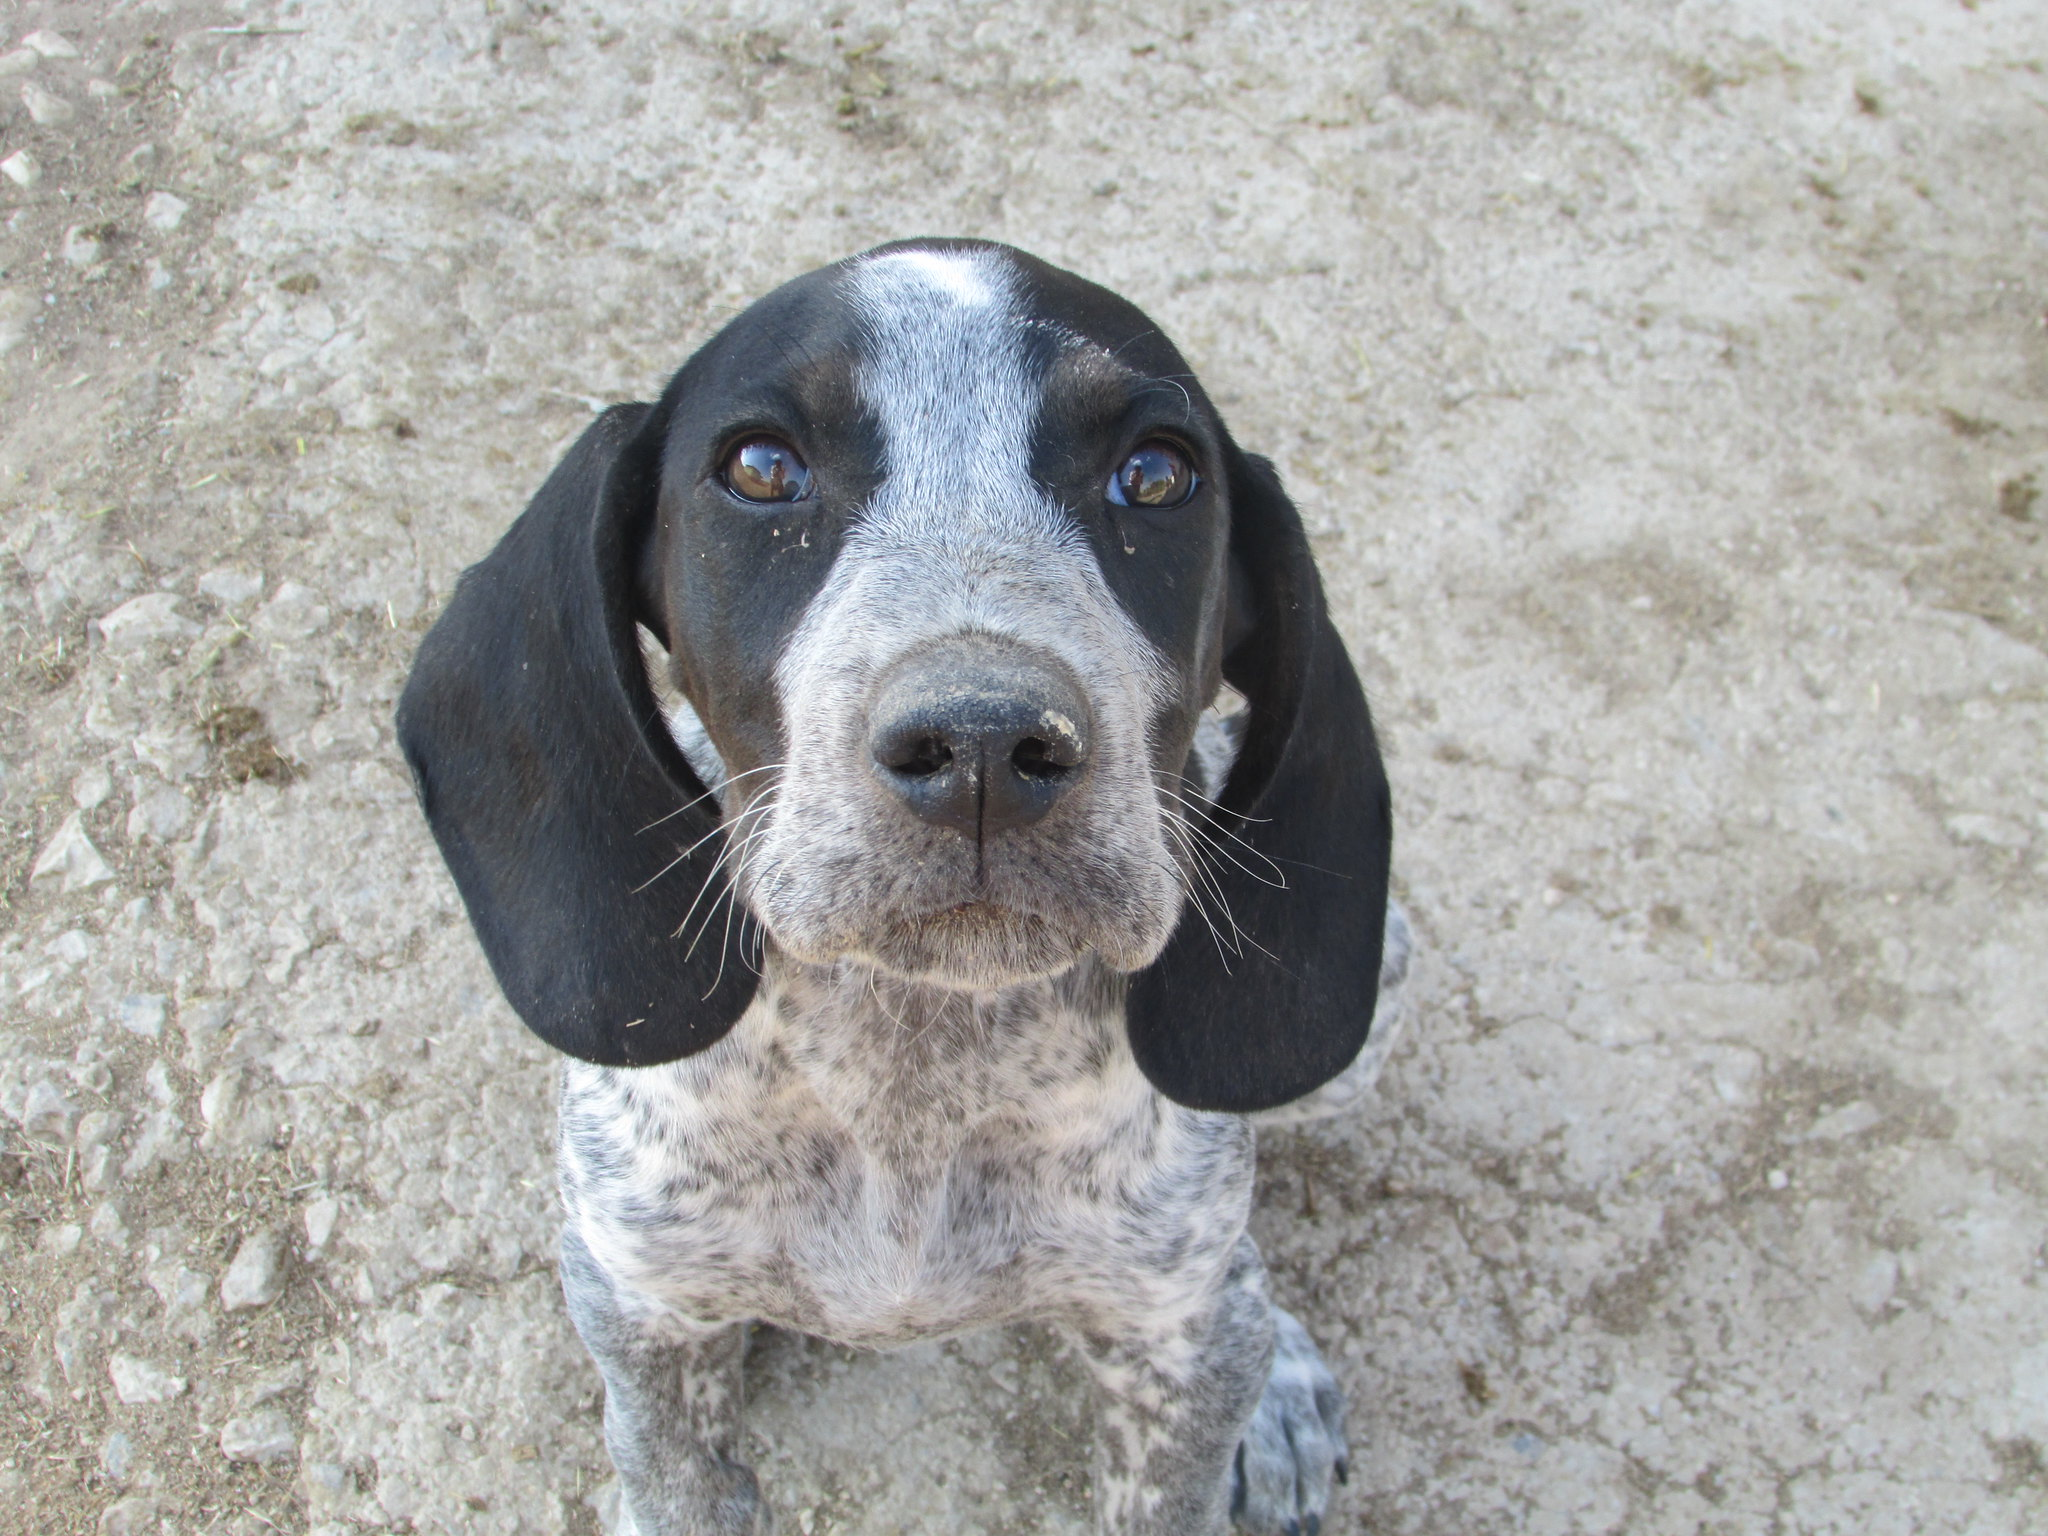dog: (405, 219, 1413, 1536)
